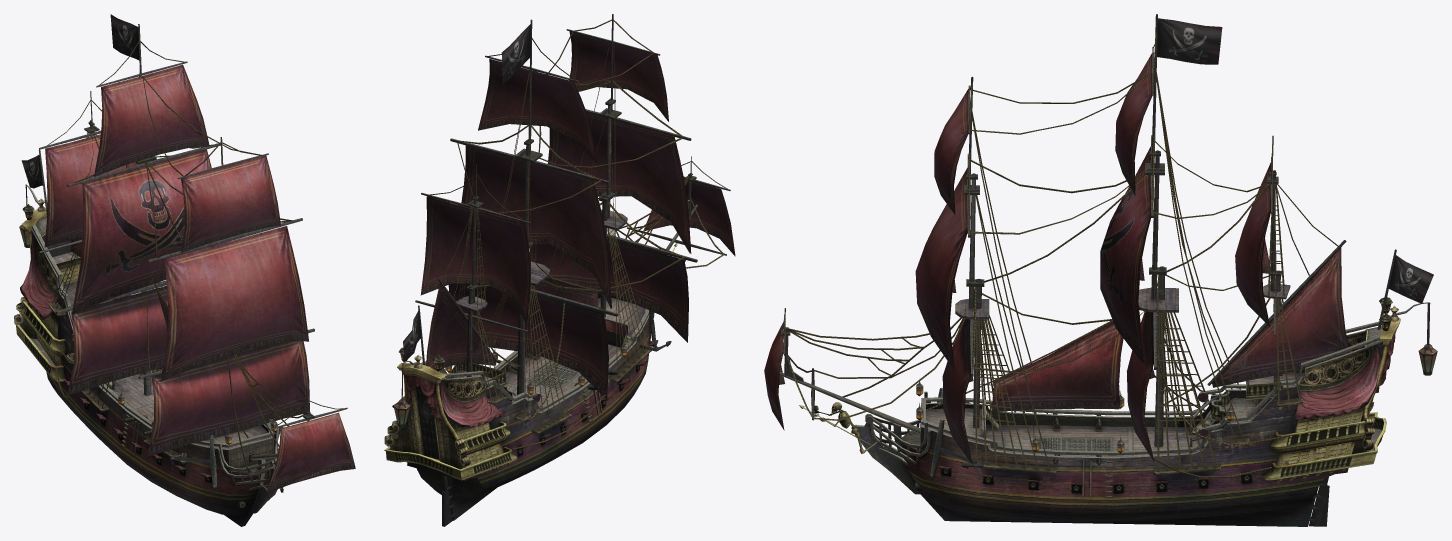
Rendered from U_T_Ship_03.fbx.
3 renders of one model, left to right at view 1: azimuth 30°, elevation 25°; view 2: azimuth 150°, elevation 25°; view 3: azimuth 270°, elevation 25°, orthographic. The views are drawn at different scales.
Parts seen in each view (by area): view 1: U_Ship_03_p1, U_Ship_03, U_Ship_03_p2, U_Ship_03_p3; view 2: U_Ship_03_p1, U_Ship_03, U_Ship_03_p3, U_Ship_03_p2, U_Ship_03_p4, U_Ship_03_p5; view 3: U_Ship_03, U_Ship_03_p1, U_Ship_03_p3, U_Ship_03_p2, U_Ship_03_p4.
Boxes of the visible parts, <box> form: U_Ship_03_p1: <box>21,14,355,493</box>; U_Ship_03: <box>14,24,347,513</box>; U_Ship_03_p2: <box>60,361,274,494</box>; U_Ship_03_p3: <box>46,372,268,515</box>; U_Ship_03_p1: <box>401,24,735,400</box>; U_Ship_03: <box>384,14,730,480</box>; U_Ship_03_p3: <box>416,362,647,501</box>; U_Ship_03_p2: <box>407,329,658,480</box>; U_Ship_03_p4: <box>447,476,496,520</box>; U_Ship_03_p5: <box>441,475,454,526</box>; U_Ship_03: <box>779,14,1437,498</box>; U_Ship_03_p1: <box>764,18,1433,465</box>; U_Ship_03_p3: <box>907,468,1324,522</box>; U_Ship_03_p2: <box>901,443,1348,497</box>; U_Ship_03_p4: <box>893,423,1318,526</box>.
Size of the model in its own units: 4.5 by 10.56 by 12.75.
1 material, 1 textured.
